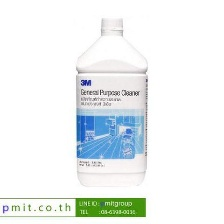cleaning_solution: (73, 15, 149, 190)
